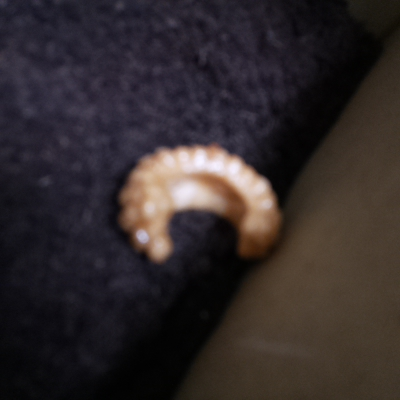eggs: (113, 132, 290, 272)
